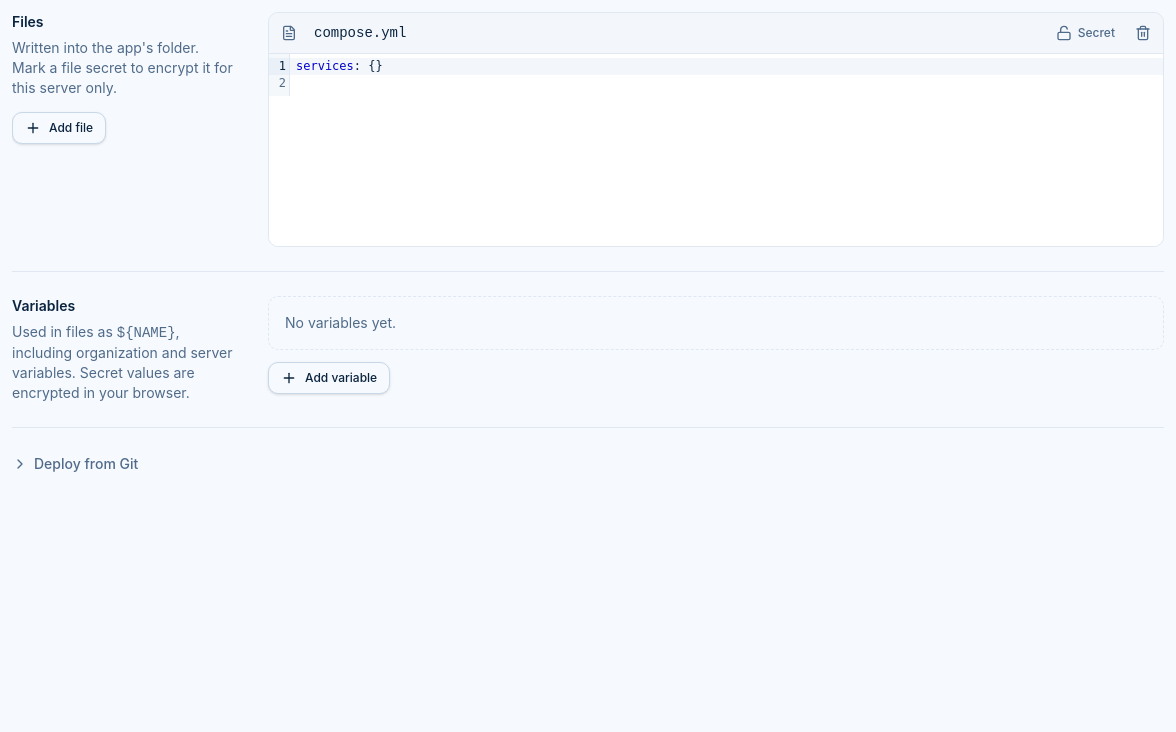
AppEditorPanel › says a nameless app needs a name, focuses the message, and doesn't send the user away with unsaved edits
Click the button "Add variable" at (329, 378), box x1=268 y1=362 x2=390 y2=394
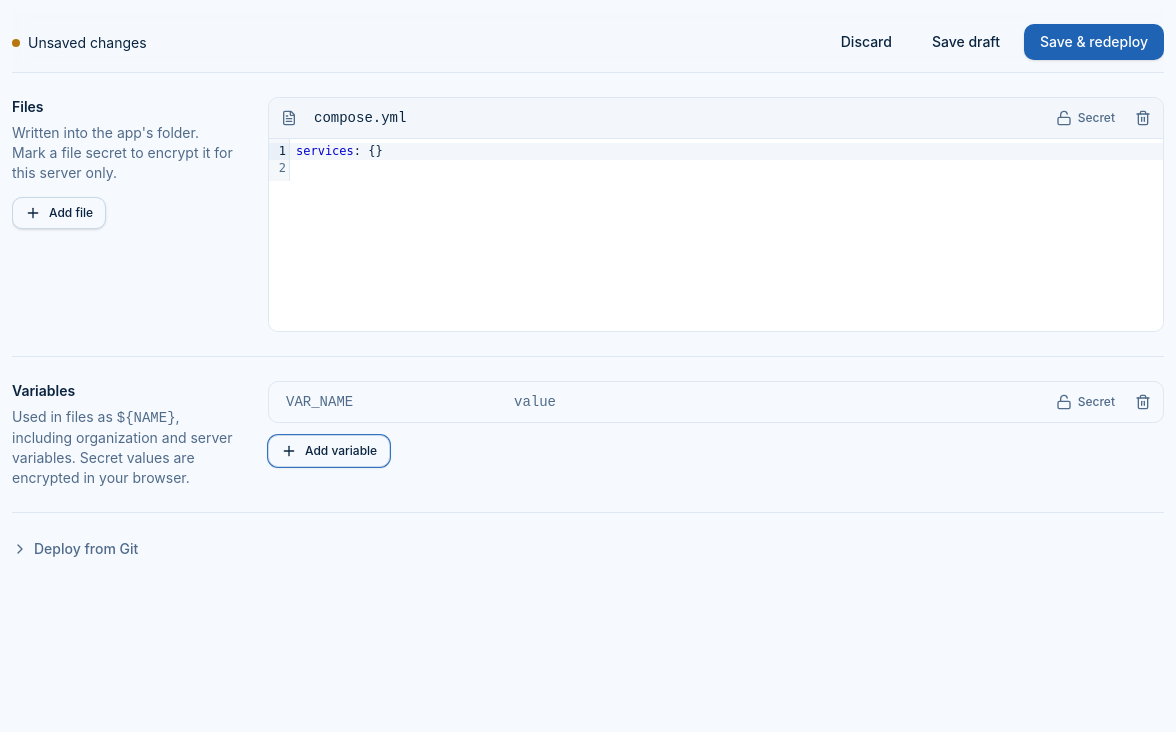
Type "PORT" into the field named "Variable name" at (385, 402), box x1=273 y1=386 x2=497 y2=418
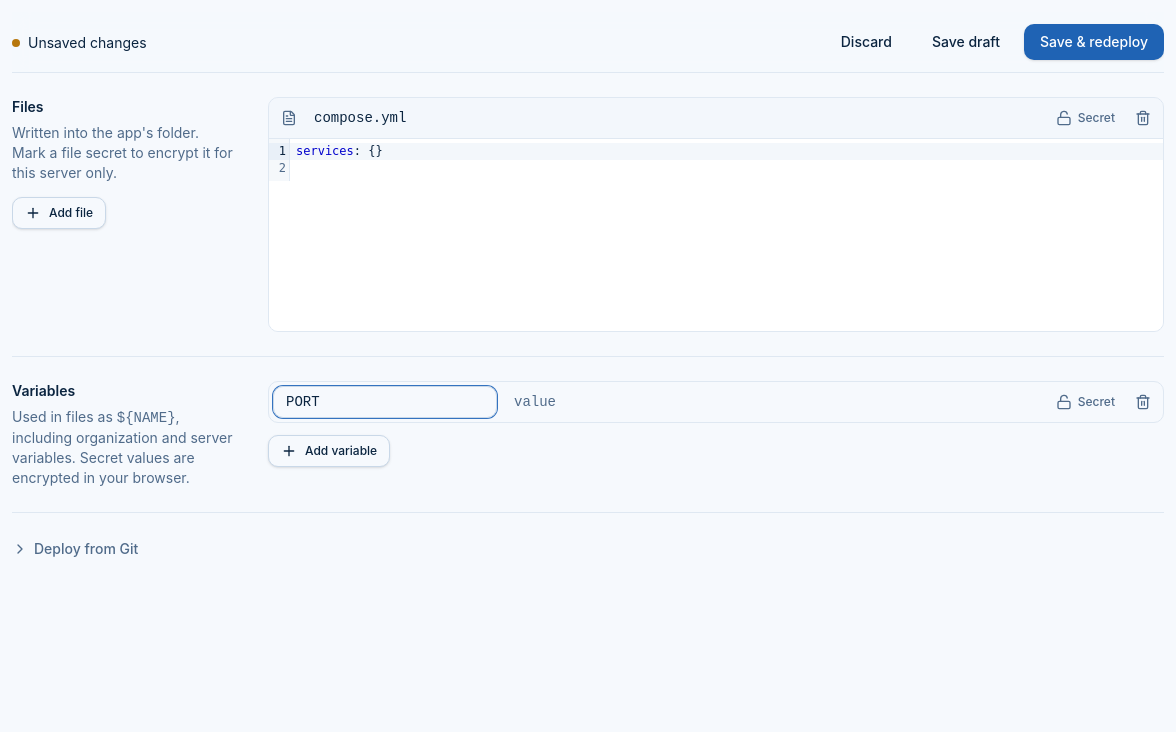
Click the button "Save & redeploy" at (1094, 42), box x1=1024 y1=24 x2=1164 y2=60
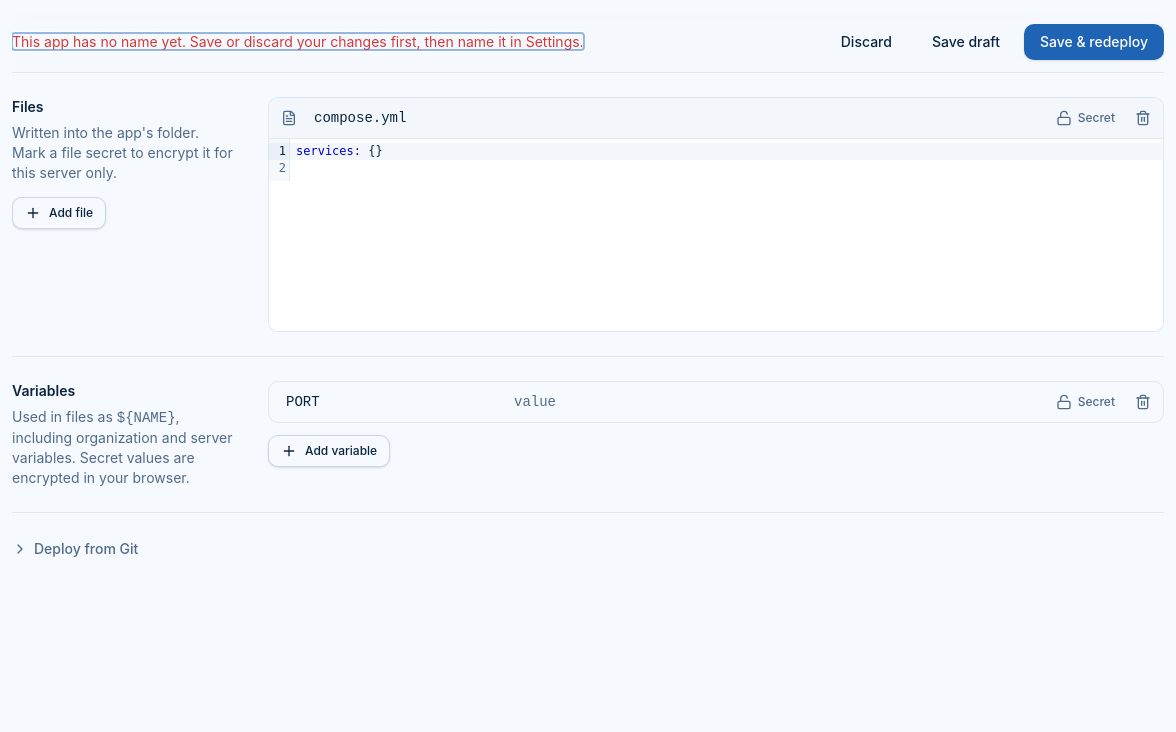
Expected: the message shows "This app has no name yet.", x1=12 y1=33 x2=186 y2=50
Expected: the message shows "Save or discard your changes first, then name it in Settings.", x1=190 y1=33 x2=584 y2=50
